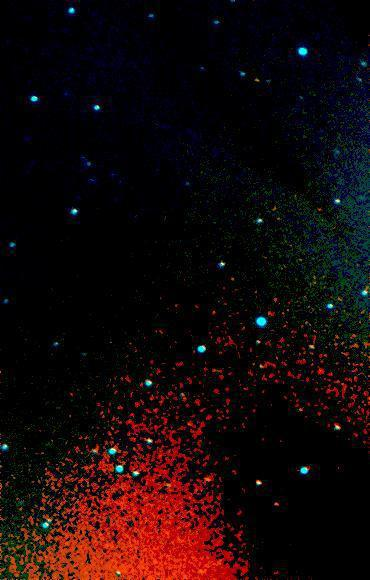star: (241, 65, 271, 95)
